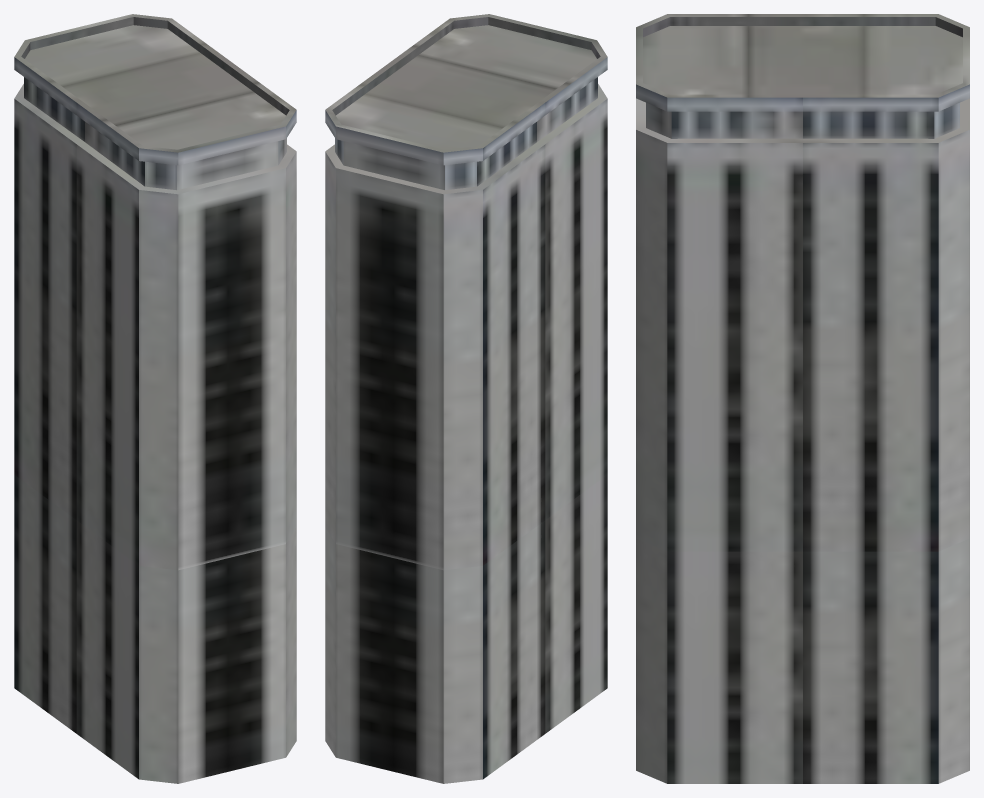
3 views of the same model, side by side, from view 1: azimuth 30°, elevation 25°; view 2: azimuth 150°, elevation 25°; view 3: azimuth 270°, elevation 25° (orthographic). The views are drawn at different scales.
Bounding box in the file's own units: 0.192 × 0.7343 × 0.3237.
1 material, 1 textured.
